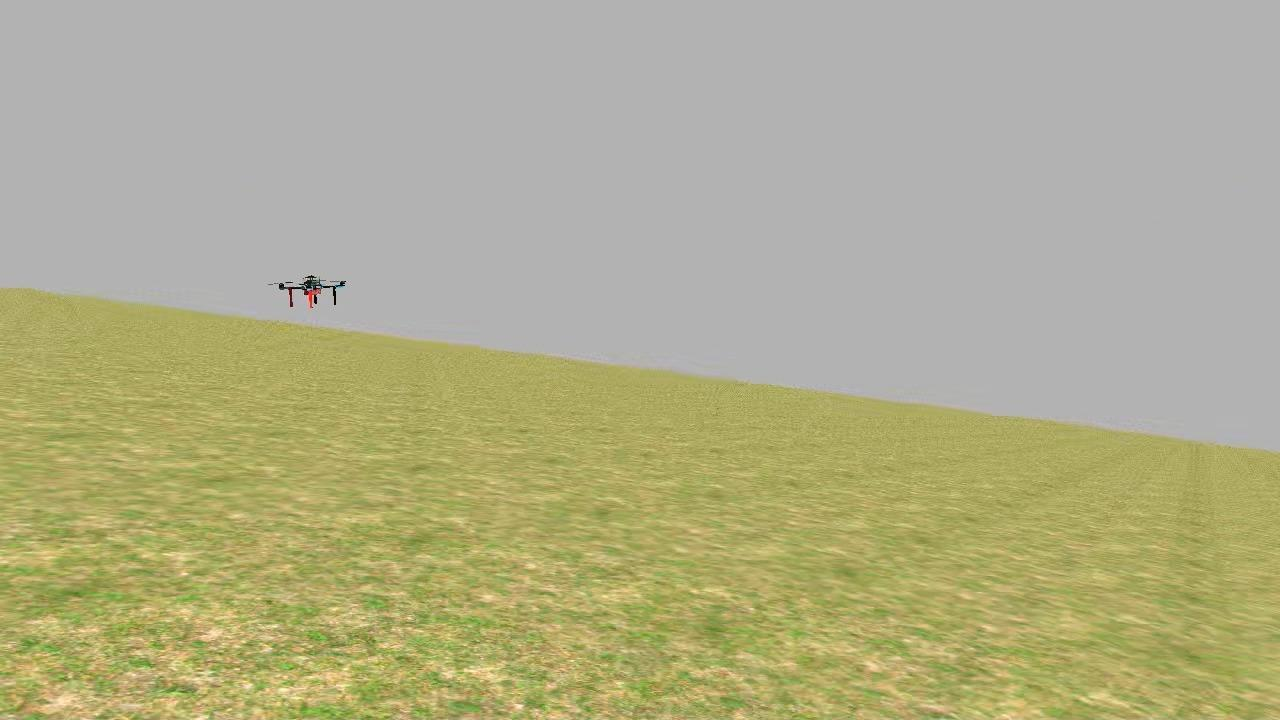UAV: (268, 268, 352, 320)
